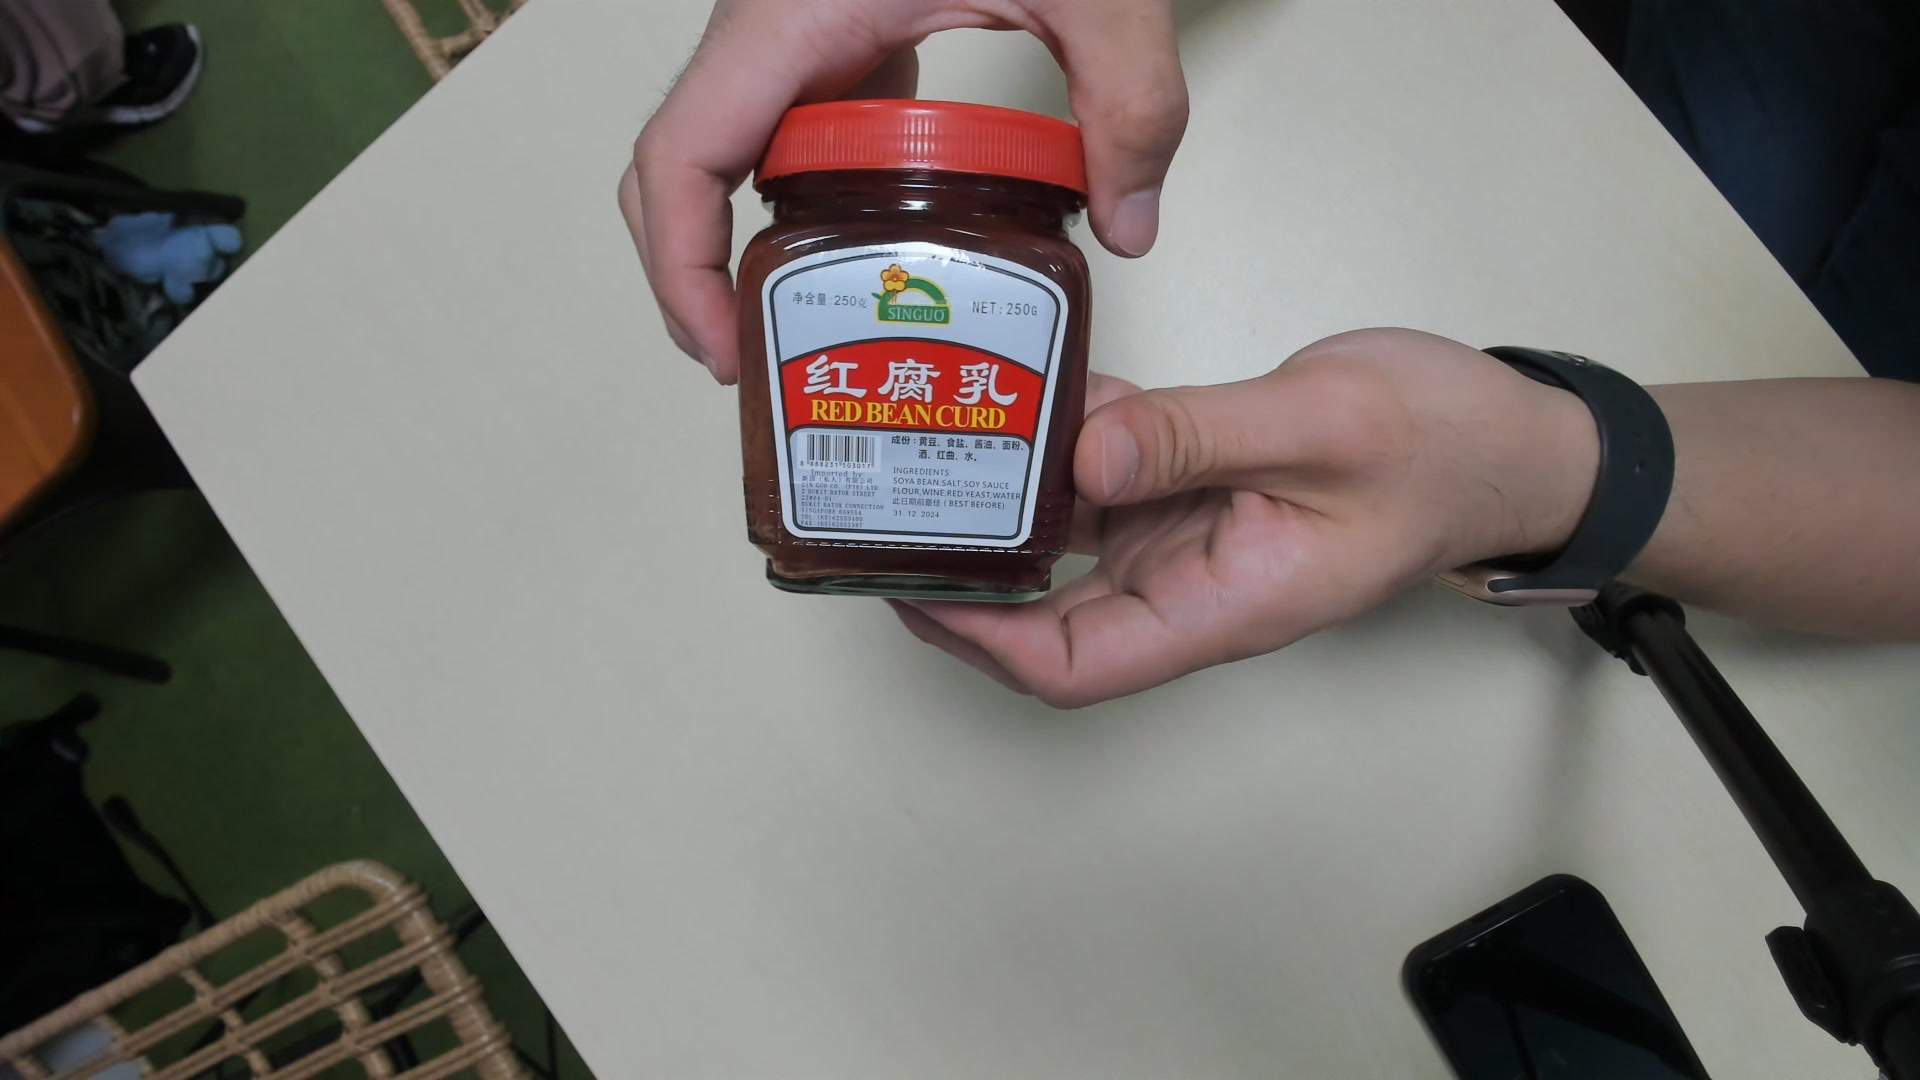OtherSauceDressing_200-299g_NonHalal_NonHealthy: (733, 103, 1091, 605)
